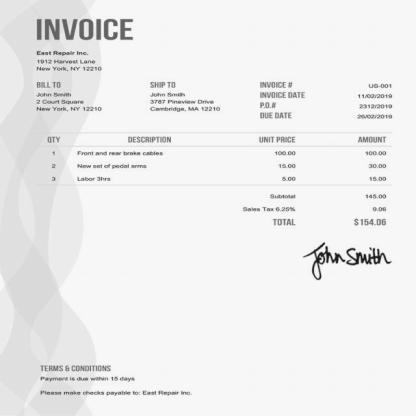Paragraph: (257, 80, 395, 121), (240, 194, 388, 228), (38, 364, 194, 396), (35, 17, 135, 41), (147, 80, 221, 112), (35, 80, 103, 112), (35, 50, 103, 72)
Table: (41, 132, 392, 184)
